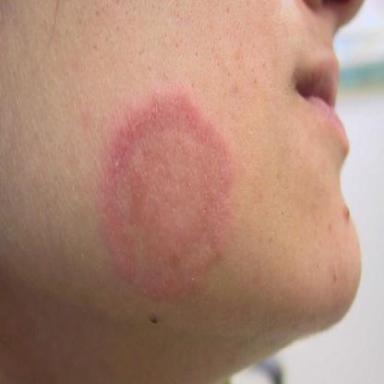Tinea-Corporis: (105, 88, 233, 296)
